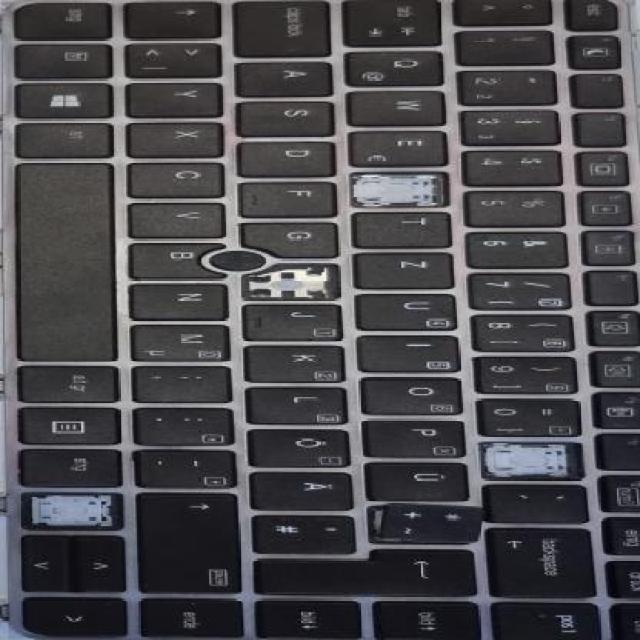Keyboard problems: (342, 163, 457, 217), (18, 482, 128, 536), (475, 435, 590, 480), (236, 256, 344, 299)
